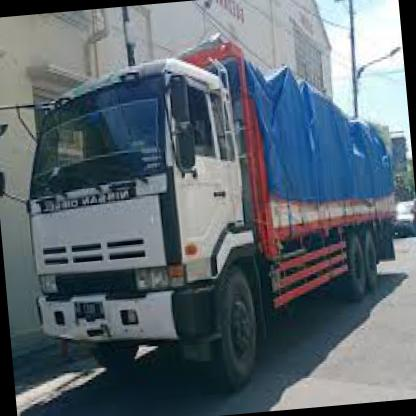truck: (15, 52, 266, 402)
